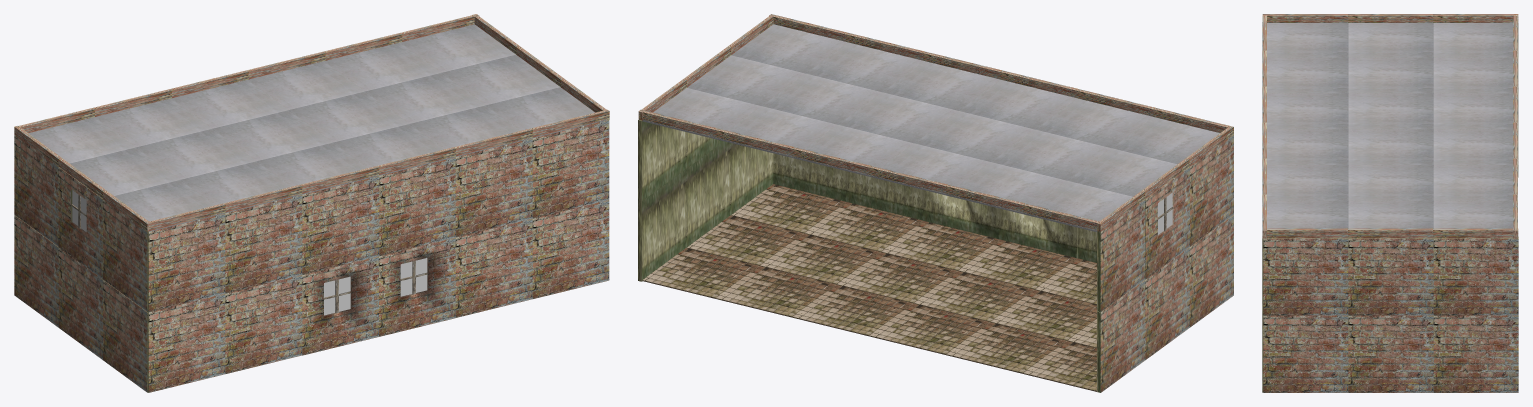
The model's file is SmallPartHS.fbx.
3 renders of one model, left to right at view 1: azimuth 30°, elevation 25°; view 2: azimuth 150°, elevation 25°; view 3: azimuth 270°, elevation 25°, orthographic. The views are drawn at different scales.
Visible parts, largest first — view 1: Cube; view 2: Cube; view 3: Cube.
Boxes of the visible parts, x1=… form: Cube: x1=14, y1=14, x2=609, y2=392; Cube: x1=638, y1=14, x2=1233, y2=392; Cube: x1=1262, y1=14, x2=1518, y2=392.
Size of the model in its own units: 6022 by 2105 by 3012.
